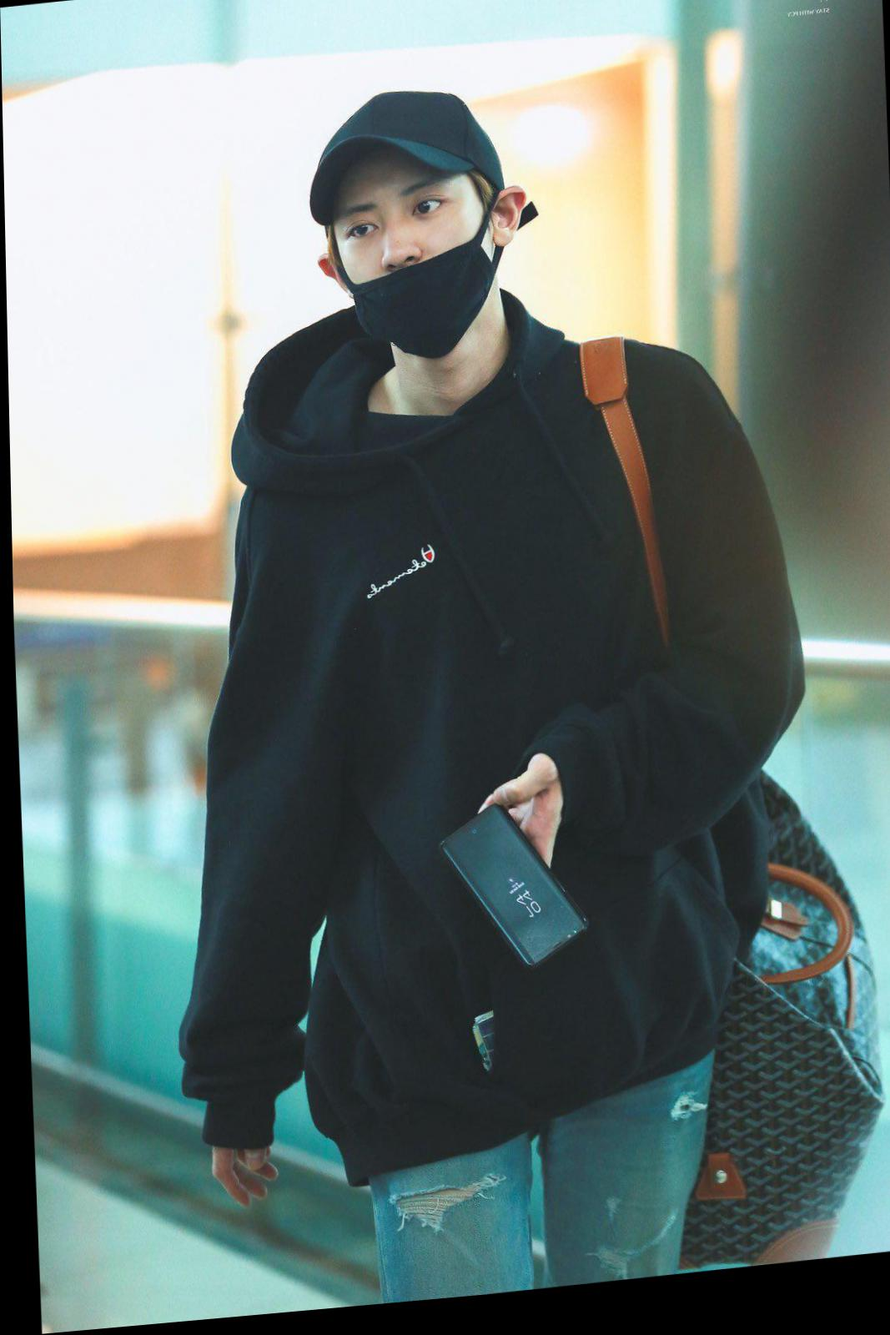WRONG: (332, 165, 488, 369)
